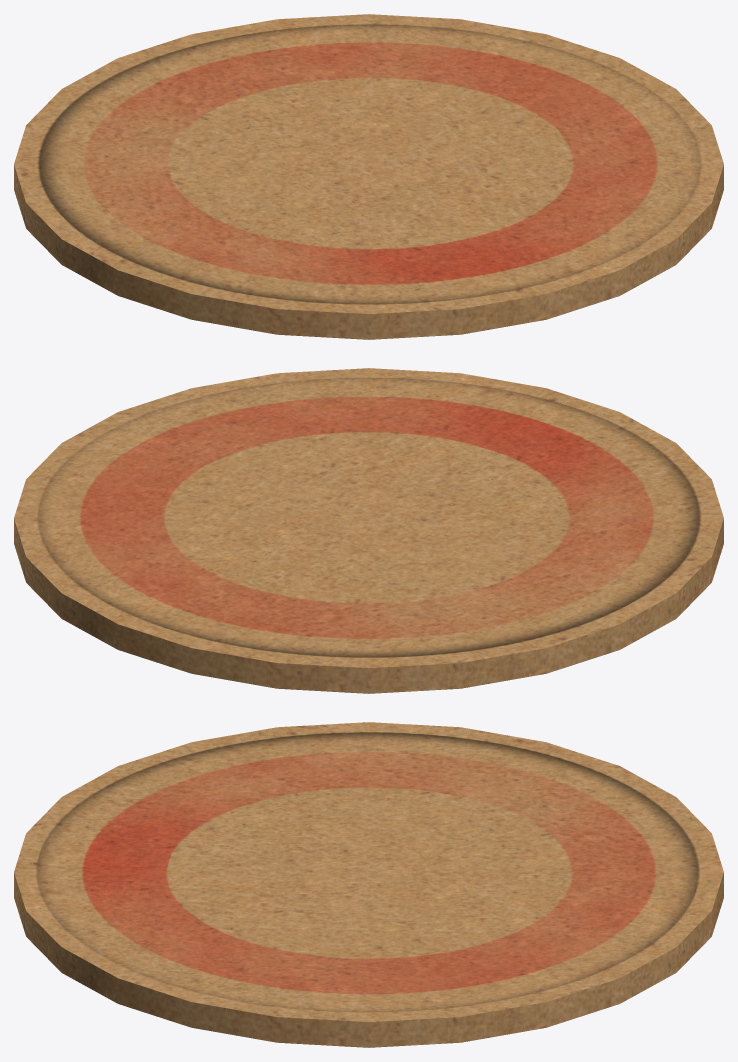
The model's file is Coaster_c02.fbx.
3 renders of one model, top to bottom at view 1: azimuth 30°, elevation 25°; view 2: azimuth 150°, elevation 25°; view 3: azimuth 270°, elevation 25°, orthographic.
Visible parts, largest first — view 1: Coaster_c02; view 2: Coaster_c02; view 3: Coaster_c02.
Boxes of the visible parts, x1,y1,x2,y2 form: Coaster_c02: [14, 14, 723, 339]; Coaster_c02: [14, 368, 723, 693]; Coaster_c02: [14, 722, 723, 1047].
Size of the model in its own units: 8.48 by 0.3379 by 8.48.
